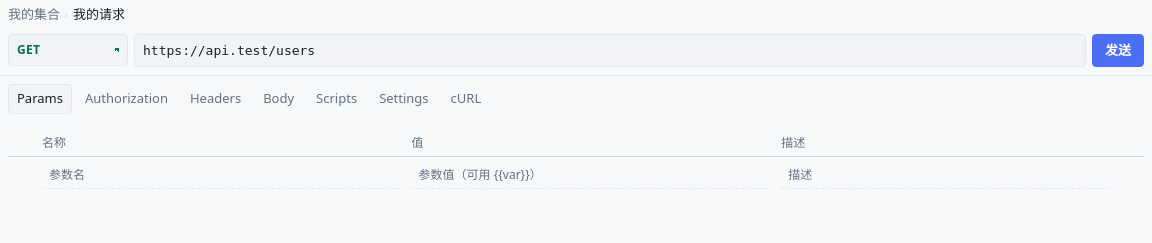
URL 与参数表同步（spec: URL 与参数表保持同步） › 新增参数行：地址栏立刻带上它
Type "kw" into the field named "新增行的名称" at (221, 174), box x1=42 y1=160 x2=400 y2=188
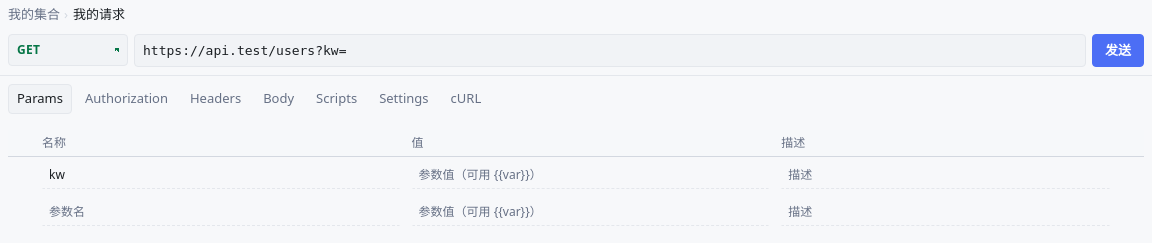
Expected: the text "https://api.test/users?kw=" is shown, x1=143 y1=42 x2=346 y2=58
